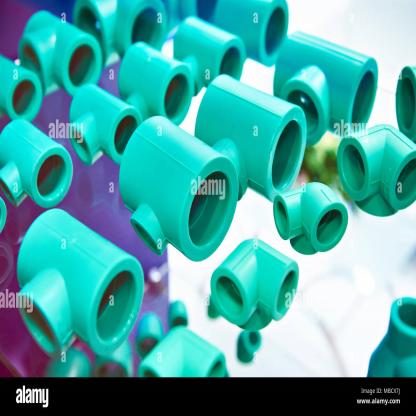PVC: (1, 2, 416, 378)
